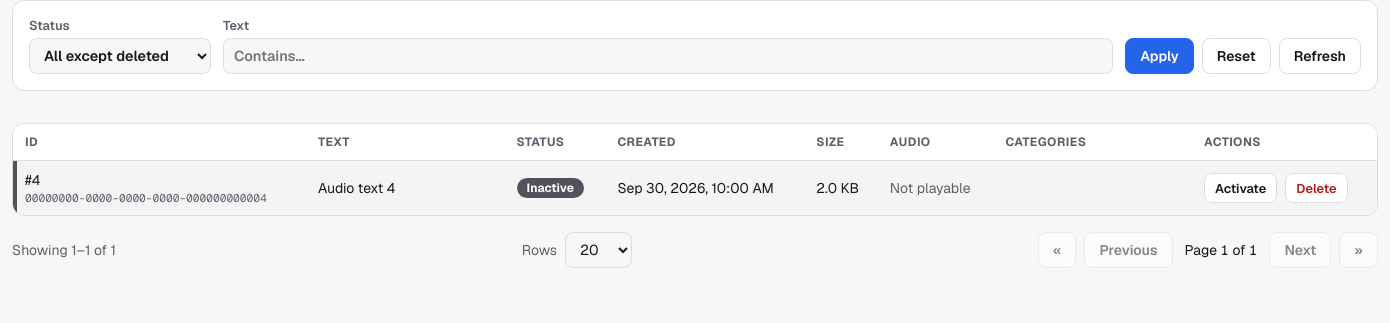
Scenario: AudioLog › asks for confirmation before deleting
Click the button named "Delete audio #4" at (1316, 188), box [1285,173,1348,203]
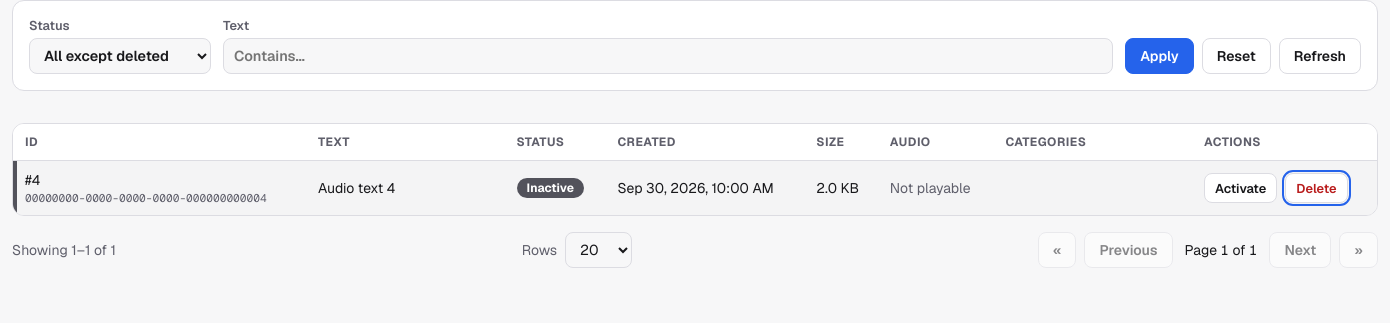
Click the button named "Delete audio #4" at (1316, 188), box [1285,173,1348,203]
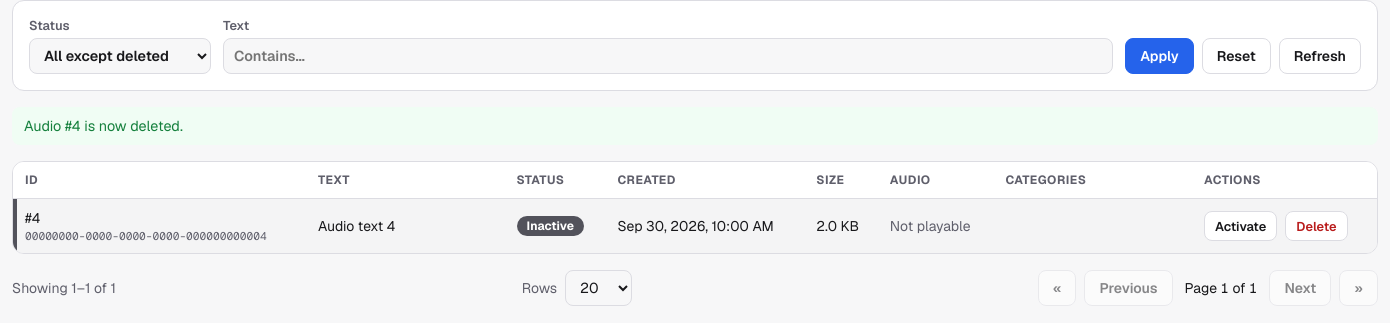
Now the message reads "Audio #4 is now deleted.", box [24,117,183,135]
